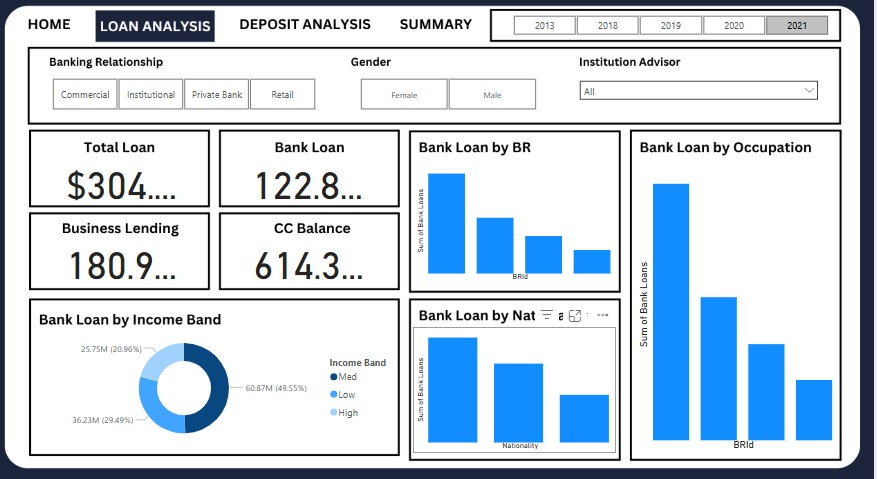

What the dashboard file says about the page in this screenshot:
{"tool":"powerbi","page":{"name":"Loan Analysis","canvas":[1280,720],"ordinal":1},"visuals":[{"type":"slicer","fields":{"Values":["banking_case customer.Year of Joining"]},"box":[733.3,32.2,504.1,34.9],"z":0},{"type":"actionButton","box":[36.4,31.7,99.7,39.6],"z":1000},{"type":"actionButton","box":[348.2,31.7,221.6,39.6],"z":2000},{"type":"actionButton","box":[587.1,31.7,123.4,39.6],"z":3000},{"type":"card","fields":{"Values":["banking_case customer.Total Loan"]},"box":[100.9,243.7,179.5,65.5],"z":4000},{"type":"card","fields":{"Values":["Sum(banking_case customer.Bank Loans)"]},"box":[369.5,243.7,179.5,65.5],"z":5000},{"type":"card","fields":{"Values":["Sum(banking_case customer.Business Lending)"]},"box":[100.9,360.4,179.5,65.5],"z":6000},{"type":"card","fields":{"Values":["Sum(banking_case customer.Credit Card Balance)"]},"box":[370.8,360.4,179.5,65.5],"z":7000},{"type":"donutChart","fields":{"Category":["banking_case customer.Income Band"],"Y":["Sum(banking_case customer.Bank Loans)"]},"box":[66.8,488.8,530.7,176.9],"z":8000},{"type":"clusteredColumnChart","fields":{"Category":["banking_case customer.BRId"],"Y":["Sum(banking_case customer.Bank Loans)"]},"box":[613.3,243.7,293.5,182.1],"z":9000},{"type":"clusteredColumnChart","fields":{"Category":["banking_case customer.Nationality"],"Y":["Sum(banking_case customer.Bank Loans)"]},"box":[613.3,488.8,293.5,182.1],"z":10000},{"type":"clusteredColumnChart","fields":{"Category":["banking_case customer.BRId"],"Y":["Sum(banking_case customer.Bank Loans)"]},"box":[933.7,245.3,292.8,425.7],"z":11000},{"type":"slicer","fields":{"Values":["banking_case customer.BRId"]},"box":[66.8,123.2,428.5,57.7],"z":12000},{"type":"slicer","fields":{"Values":["banking_case customer.GenderId"]},"box":[512.4,123.2,302.7,57.7],"z":13000},{"type":"slicer","fields":{"Values":["banking_case customer.IAId"]},"box":[843.9,123.2,364.3,57.7],"z":14000}]}

Visuals, with their boxes in screenshot pixels (x1, y1, x2, y2), scaled from the page's 1280x720 canvas onto the 877x479 screenshot:
slicer - banking_case customer.Year of Joining: [502, 21, 848, 45]
actionButton: [25, 21, 93, 47]
actionButton: [239, 21, 390, 47]
actionButton: [402, 21, 487, 47]
card - banking_case customer.Total Loan: [69, 162, 192, 206]
card - Sum(banking_case customer.Bank Loans): [253, 162, 376, 206]
card - Sum(banking_case customer.Business Lending): [69, 240, 192, 283]
card - Sum(banking_case customer.Credit Card Balance): [254, 240, 377, 283]
donutChart - banking_case customer.Income Band x Sum(banking_case customer.Bank Loans): [46, 325, 409, 443]
clusteredColumnChart - banking_case customer.BRId x Sum(banking_case customer.Bank Loans): [420, 162, 621, 283]
clusteredColumnChart - banking_case customer.Nationality x Sum(banking_case customer.Bank Loans): [420, 325, 621, 446]
clusteredColumnChart - banking_case customer.BRId x Sum(banking_case customer.Bank Loans): [640, 163, 840, 446]
slicer - banking_case customer.BRId: [46, 82, 339, 120]
slicer - banking_case customer.GenderId: [351, 82, 558, 120]
slicer - banking_case customer.IAId: [578, 82, 828, 120]
